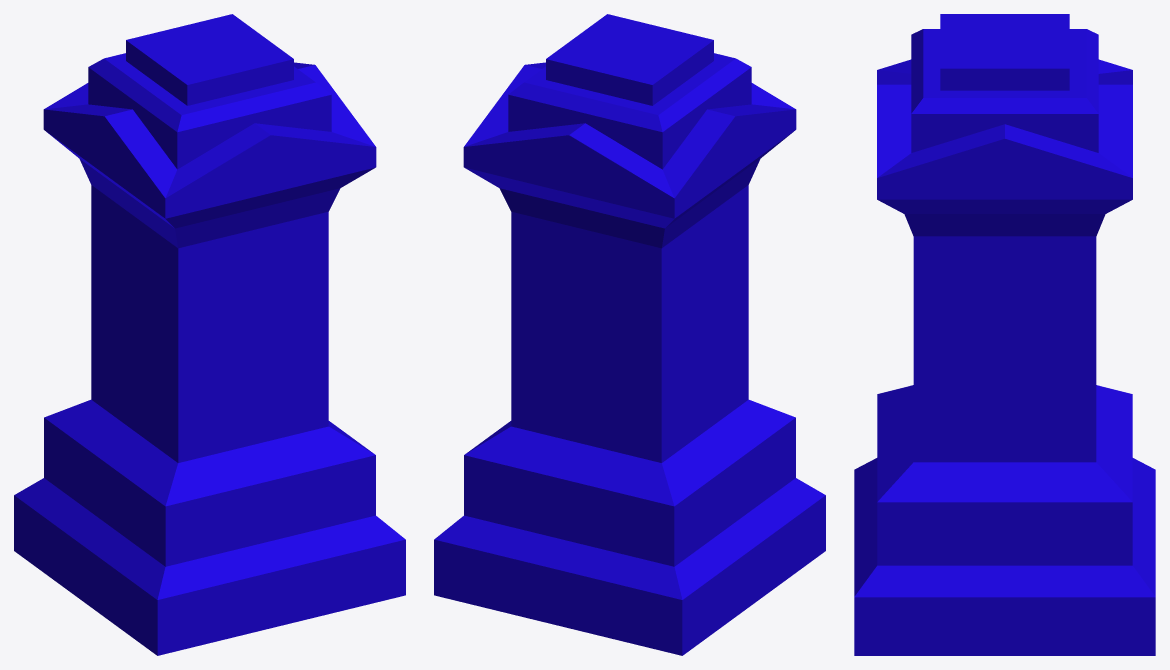
Rendered from blue_pillar.glb.
3 renders of one model, left to right at view 1: azimuth 30°, elevation 25°; view 2: azimuth 150°, elevation 25°; view 3: azimuth 270°, elevation 25°, orthographic. The views are drawn at different scales.
Parts seen in each view (by area): view 1: Obelisk2; view 2: Obelisk2; view 3: Obelisk2.
Part boxes in pixels (x1,y1,x2,y2): Obelisk2: (14,14,405,655); Obelisk2: (434,14,825,655); Obelisk2: (854,14,1155,655).
Size of what is drawn, in the model's own units: 2.02 by 4.08 by 2.02.
